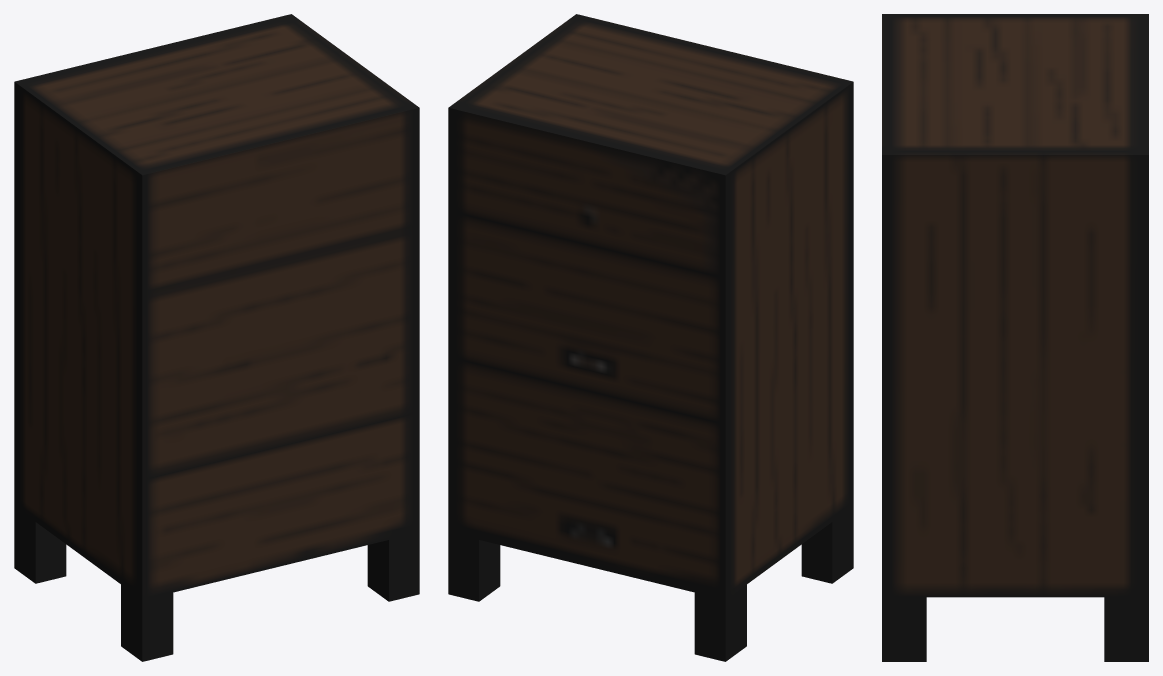
File: Drawer.fbx
The picture shows the model from 3 angles, left to right: view 1: azimuth 30°, elevation 25°; view 2: azimuth 150°, elevation 25°; view 3: azimuth 270°, elevation 25°; orthographic projection. The views are drawn at different scales.
Parts seen in each view (by area): view 1: Drawer (Mesh); view 2: Drawer (Mesh); view 3: Drawer (Mesh).
Part boxes in pixels (left/top/right/bottom): Drawer (Mesh): left=14, top=14, right=419, bottom=661; Drawer (Mesh): left=448, top=14, right=853, bottom=661; Drawer (Mesh): left=882, top=14, right=1148, bottom=661.
Size of the model in its own units: 0.5056 by 0.8478 by 0.4045.
1 material, 1 textured.
